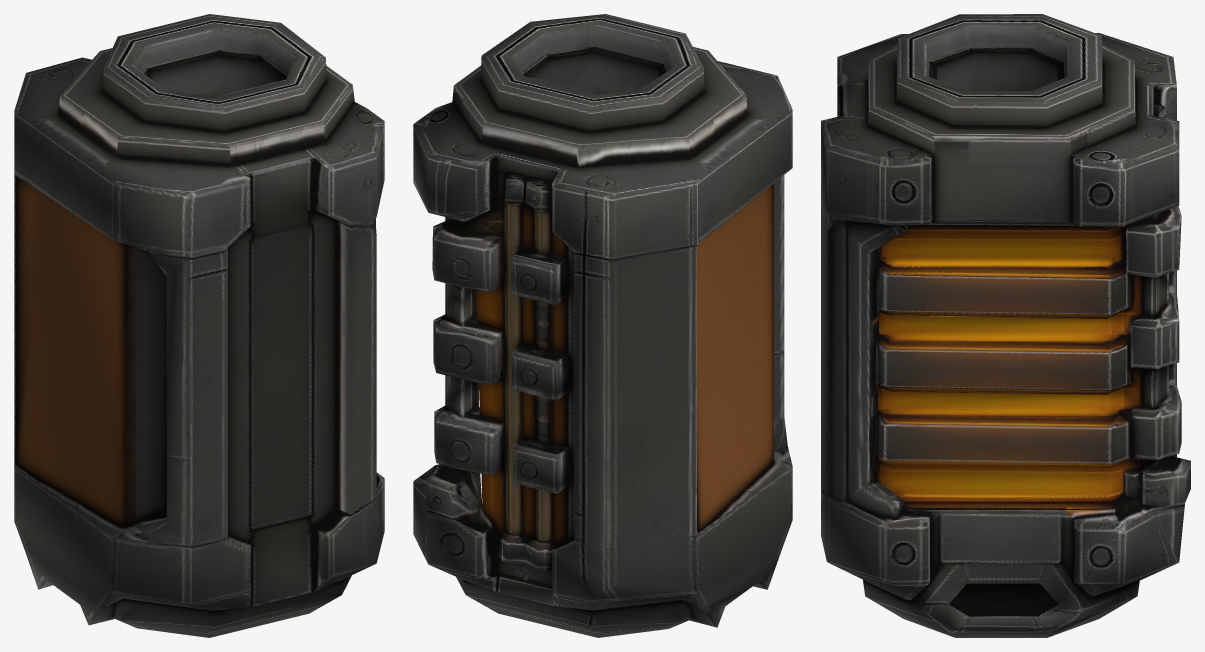
Rendered from cold-iron-v2-battery-c-capacitor.glb.
3 renders of one model, left to right at view 1: azimuth 30°, elevation 25°; view 2: azimuth 150°, elevation 25°; view 3: azimuth 270°, elevation 25°, orthographic.
Parts seen in each view (by area): view 1: tripo_node_38fc8a66-8cc3-4419-bf75-c70b52de34ee; view 2: tripo_node_38fc8a66-8cc3-4419-bf75-c70b52de34ee; view 3: tripo_node_38fc8a66-8cc3-4419-bf75-c70b52de34ee.
Part boxes in pixels (x1=…): tripo_node_38fc8a66-8cc3-4419-bf75-c70b52de34ee: x1=14, y1=14, x2=384, y2=637; tripo_node_38fc8a66-8cc3-4419-bf75-c70b52de34ee: x1=413, y1=14, x2=792, y2=637; tripo_node_38fc8a66-8cc3-4419-bf75-c70b52de34ee: x1=821, y1=14, x2=1190, y2=637.
Bounding box in the file's own units: 0.5371 × 0.998 × 0.623.
1 material, 1 textured.
